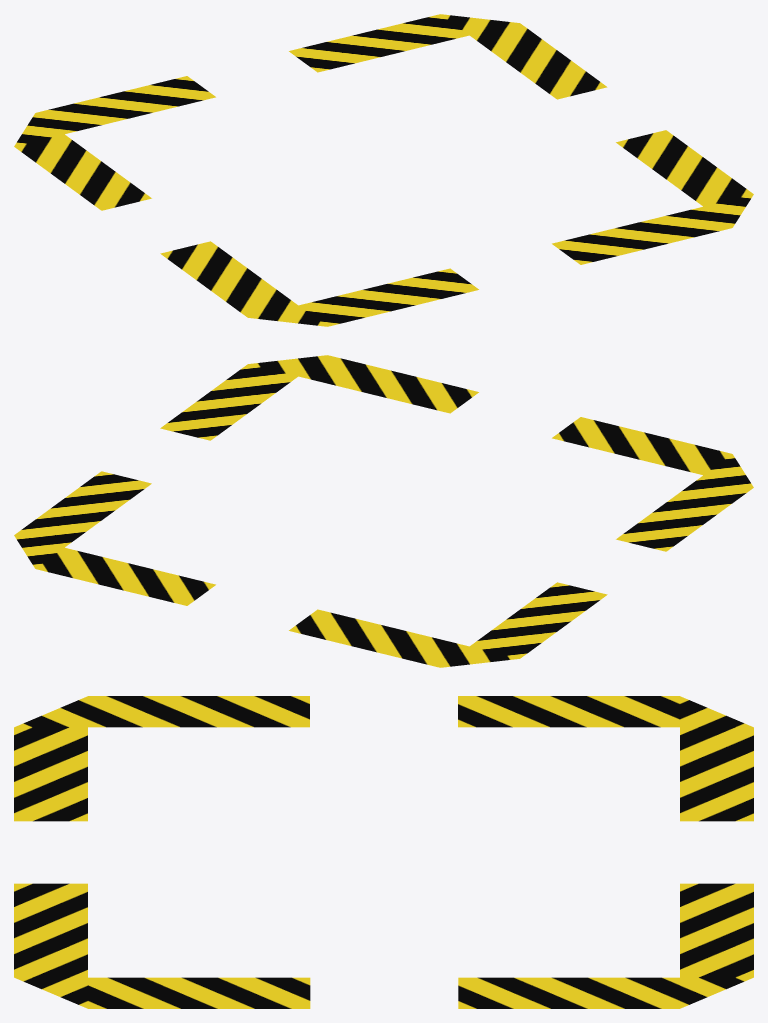
Rendered from warn.fbx.
3 views of the same model, one above another, from view 1: azimuth 30°, elevation 25°; view 2: azimuth 150°, elevation 25°; view 3: azimuth 270°, elevation 25° (orthographic). The views are drawn at different scales.
Parts seen in each view (by area): view 1: Cube; view 2: Cube; view 3: Cube.
Boxes of the visible parts, x1,y1,x2,y2 form: Cube: (14,14,753,326); Cube: (14,355,753,667); Cube: (14,696,753,1008).
Size of the model in its own units: 2 by 3.51e-15 by 2.
